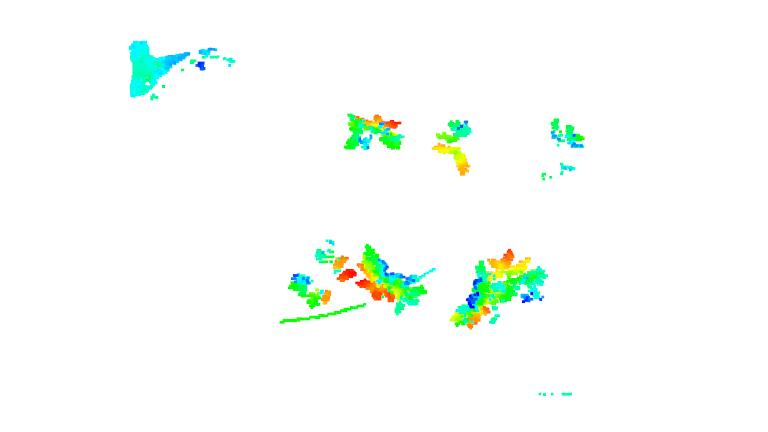chickpea: (454, 249, 552, 329), (342, 243, 439, 312), (532, 116, 586, 185), (425, 117, 483, 180), (341, 105, 411, 157), (281, 270, 341, 316), (310, 234, 363, 285)
